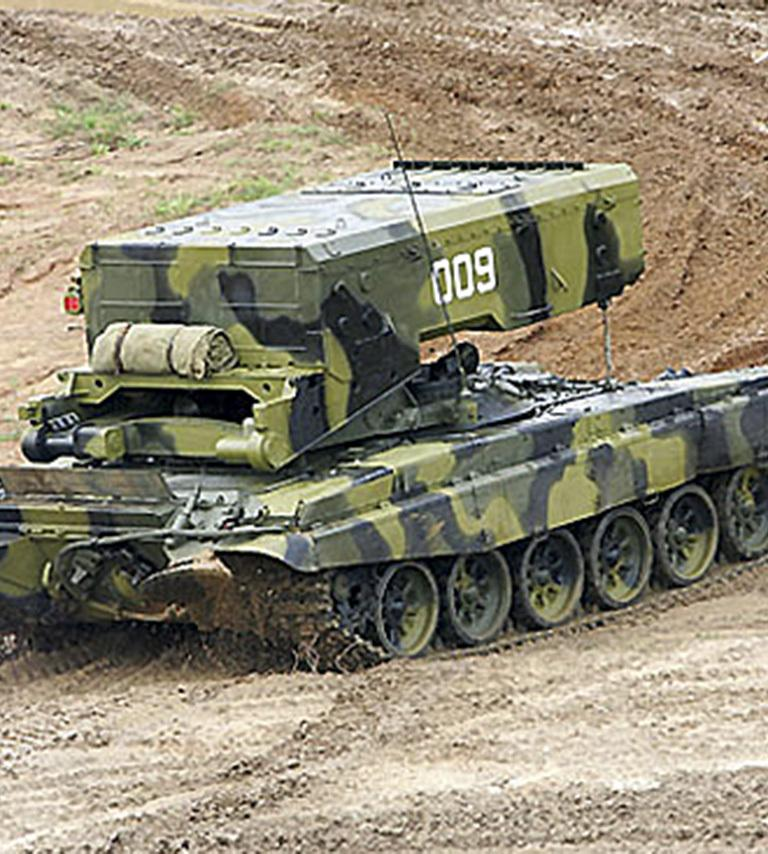MIL_SAM_TEL: (0, 148, 768, 668)
